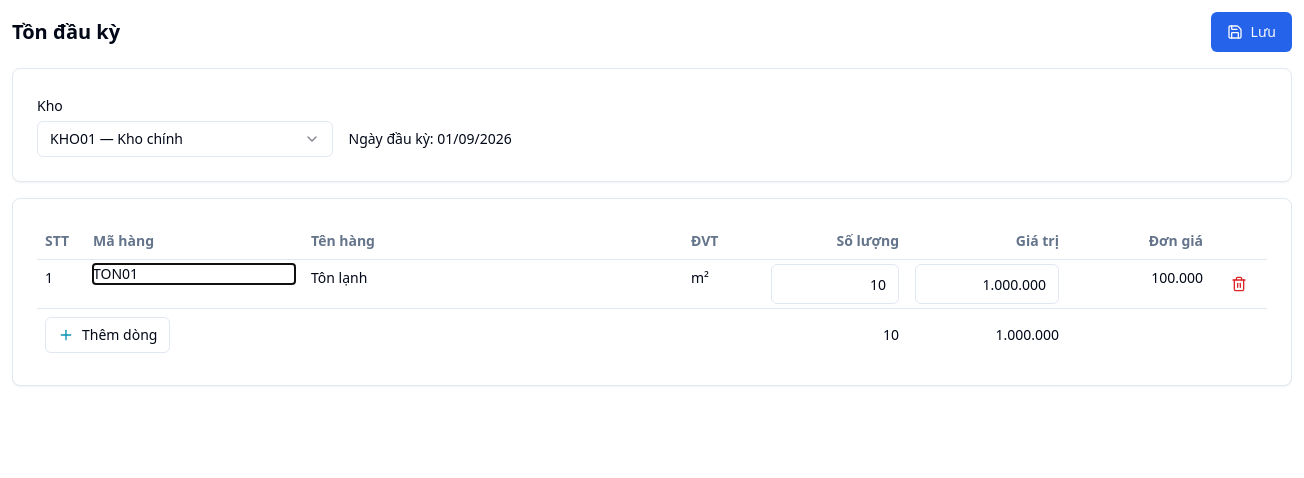
Test: OpeningStockPage › focusing a filled Mã hàng cell does not open the list; typing does
Step 1. Replace the text in the dropdown with id "opening-product-code-0" with "TON0" → (194, 274), box [93,264,295,284]
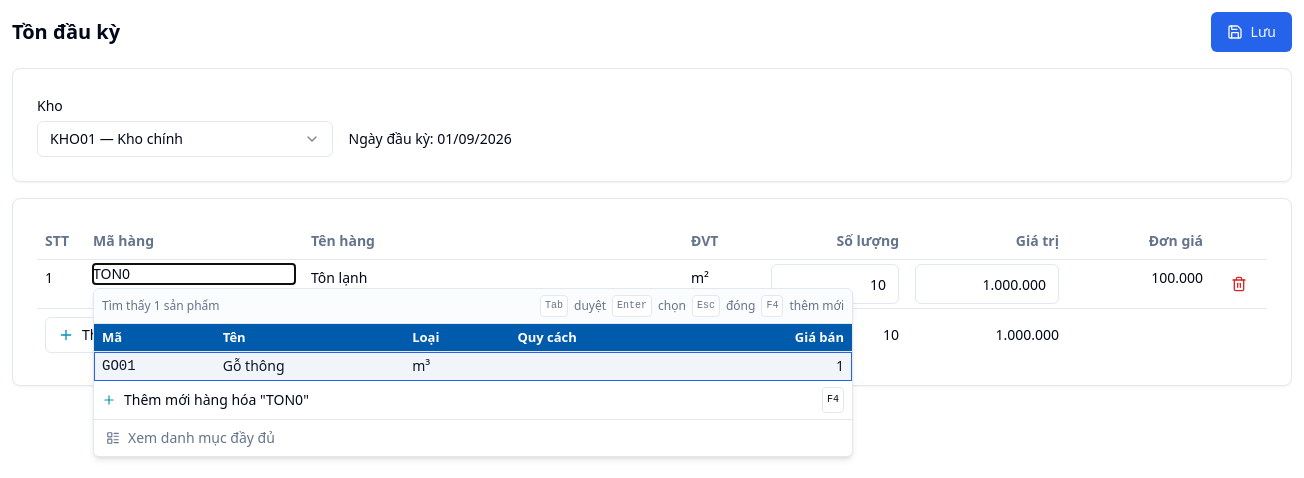
Now the list is shown, box [94,324,852,419]
